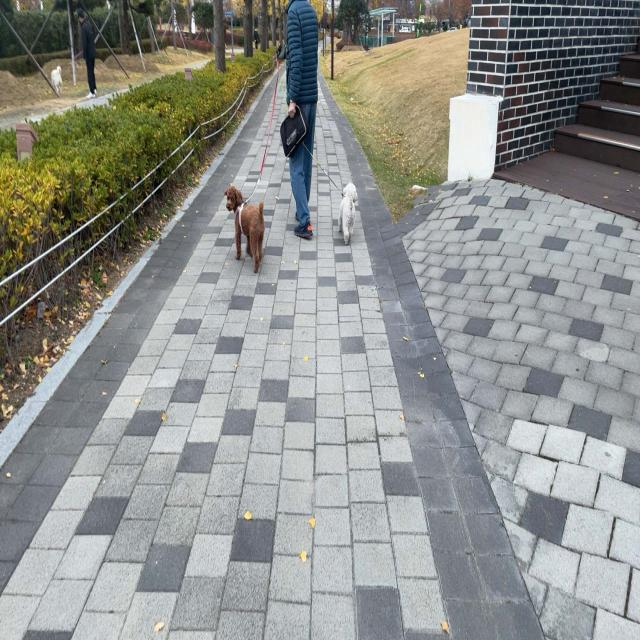Leashed_Dog: (223, 48, 295, 276), (306, 135, 358, 247)
